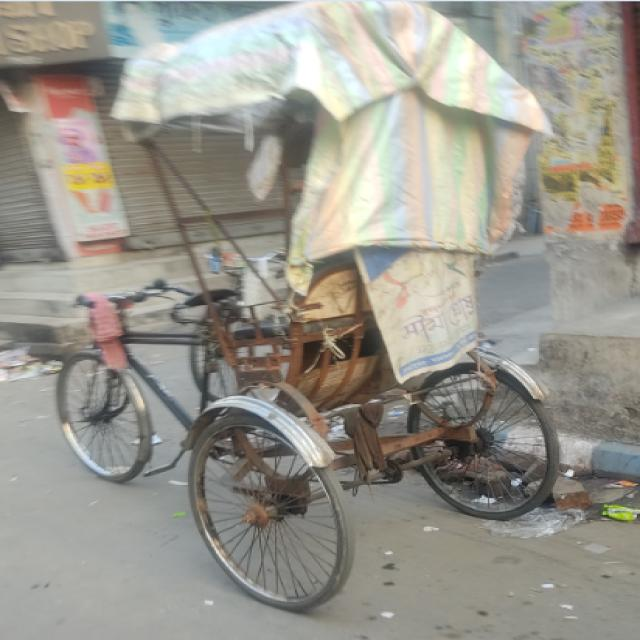rickshaw: (53, 1, 564, 614)
